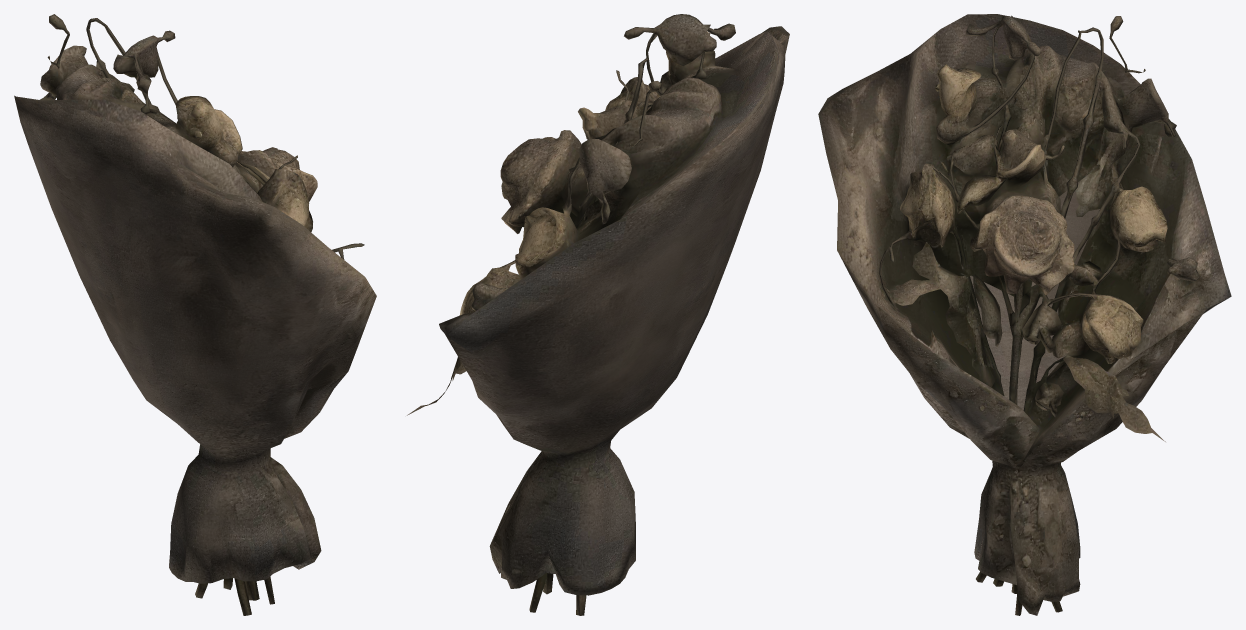
Rendered from Dead Flower Bouqet.fbx.
The picture shows the model from 3 angles, left to right: view 1: azimuth 30°, elevation 25°; view 2: azimuth 150°, elevation 25°; view 3: azimuth 270°, elevation 25°; orthographic projection. The views are drawn at different scales.
Visible parts, largest first — view 1: tripo_node_d6a53d13-4b72-4009-a25d-3a11eb6f37a7; view 2: tripo_node_d6a53d13-4b72-4009-a25d-3a11eb6f37a7; view 3: tripo_node_d6a53d13-4b72-4009-a25d-3a11eb6f37a7.
Part boxes in pixels (x1=…): tripo_node_d6a53d13-4b72-4009-a25d-3a11eb6f37a7: x1=14, y1=14, x2=376, y2=615; tripo_node_d6a53d13-4b72-4009-a25d-3a11eb6f37a7: x1=407, y1=14, x2=789, y2=615; tripo_node_d6a53d13-4b72-4009-a25d-3a11eb6f37a7: x1=818, y1=14, x2=1231, y2=615.
Bounding box in the file's own units: 49.02 × 99.8 × 69.34.
1 material, 1 textured.
